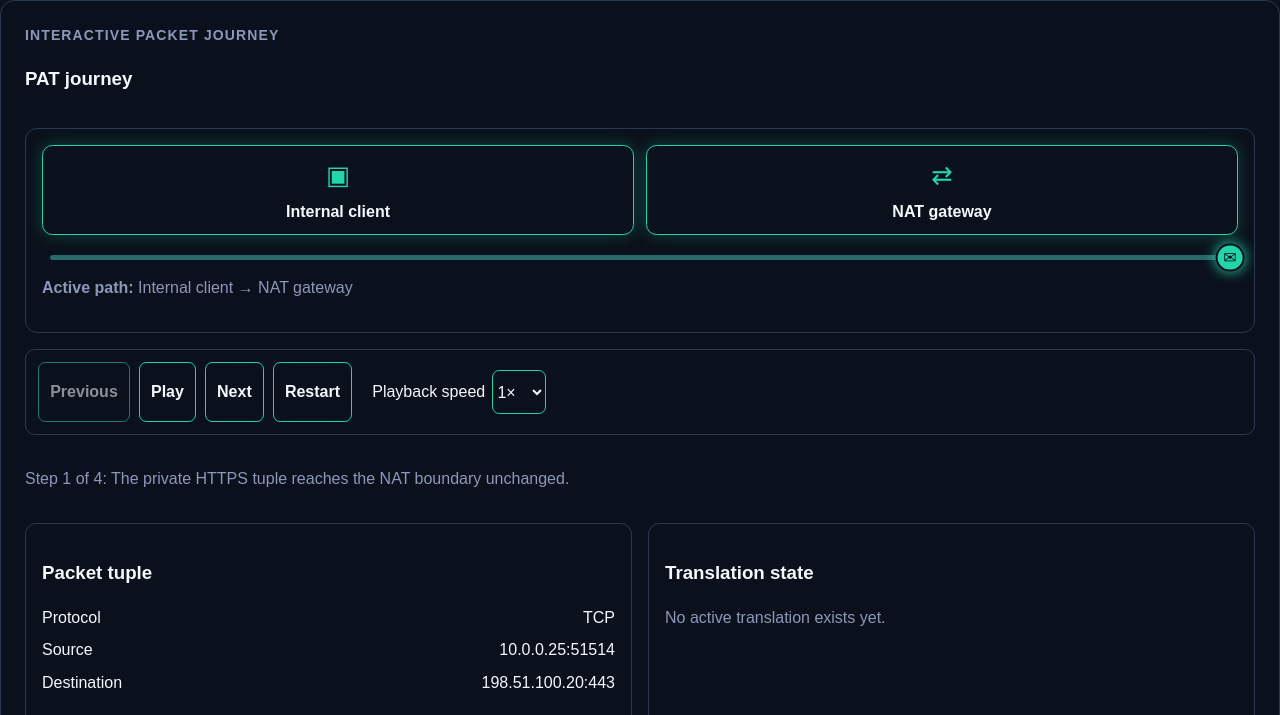
NatJourneyPlayer › restarts at step one and pauses playback
The image size is (1280, 715).
Click the button "Play". click: (167,392)
box: [139,362,196,422]
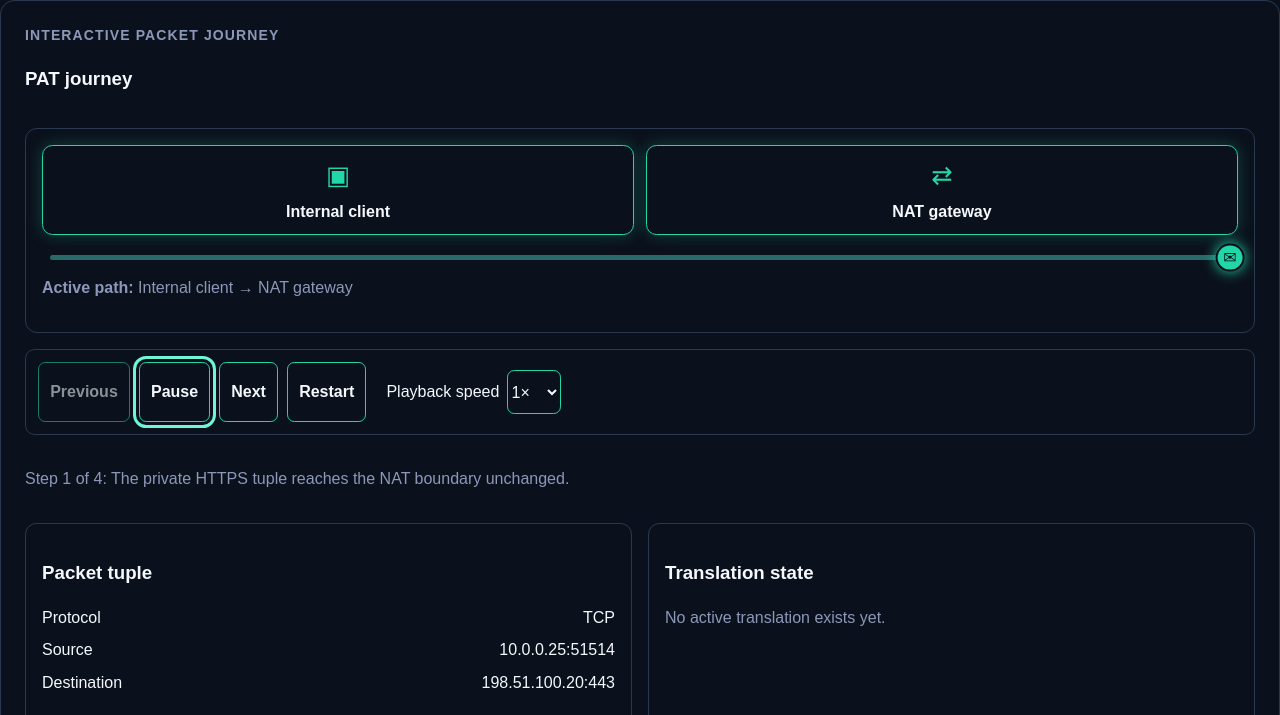
Now the button "Pause" is shown, box [139,362,210,422]
Click the button "Restart". click: (327,392)
box: [287,362,366,422]
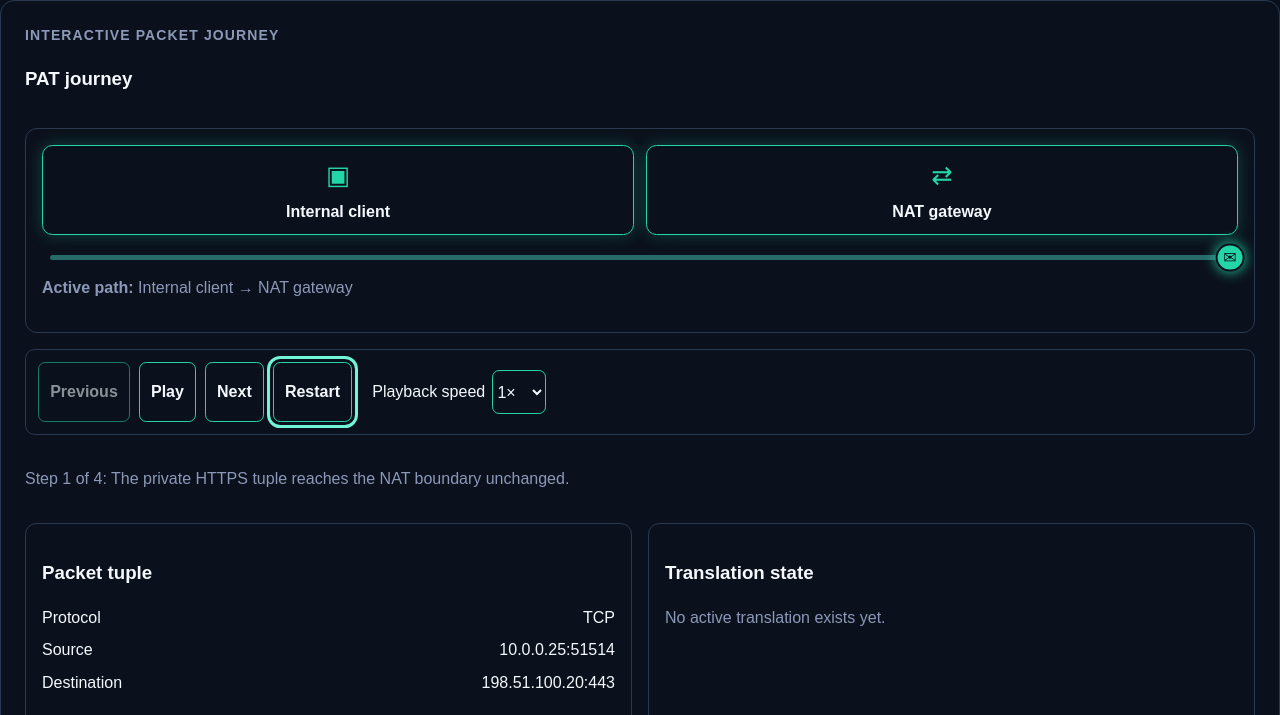
Expected: the text "Step 1 of 4: The private HTTPS tuple reaches the NAT boundary unchanged." is shown, [25,470,569,487]
Now the button "Play" is shown, box [139,362,196,422]
